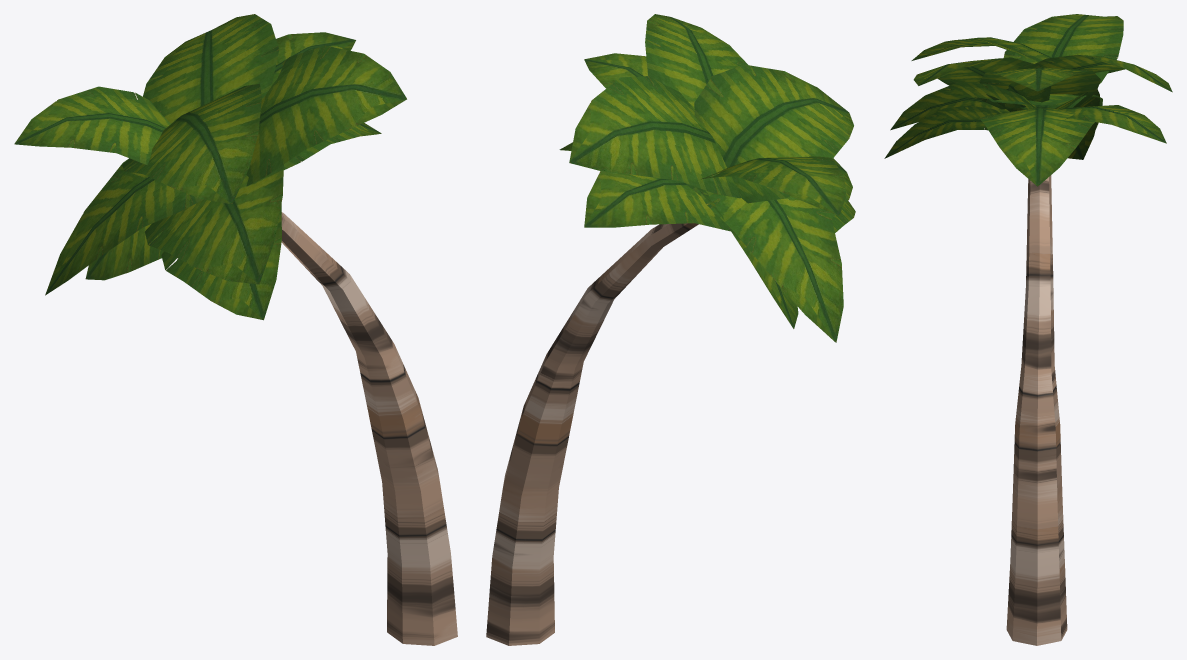
Rendered from MBL_Palm3_v3.fbx.
The picture shows the model from 3 angles, left to right: view 1: azimuth 30°, elevation 25°; view 2: azimuth 150°, elevation 25°; view 3: azimuth 270°, elevation 25°; orthographic projection. The views are drawn at different scales.
Parts seen in each view (by area): view 1: MBL_Palm3_v3_trunkShape; view 2: MBL_Palm3_v3_trunkShape; view 3: MBL_Palm3_v3_trunkShape.
Part boxes in pixels (box(x1,y1,x2,y2)): MBL_Palm3_v3_trunkShape: box(14, 14, 457, 645); MBL_Palm3_v3_trunkShape: box(486, 14, 855, 645); MBL_Palm3_v3_trunkShape: box(884, 14, 1172, 645).
Size of the model in its own units: 5.39 by 8.04 by 3.97.
2 materials, 2 textured.
